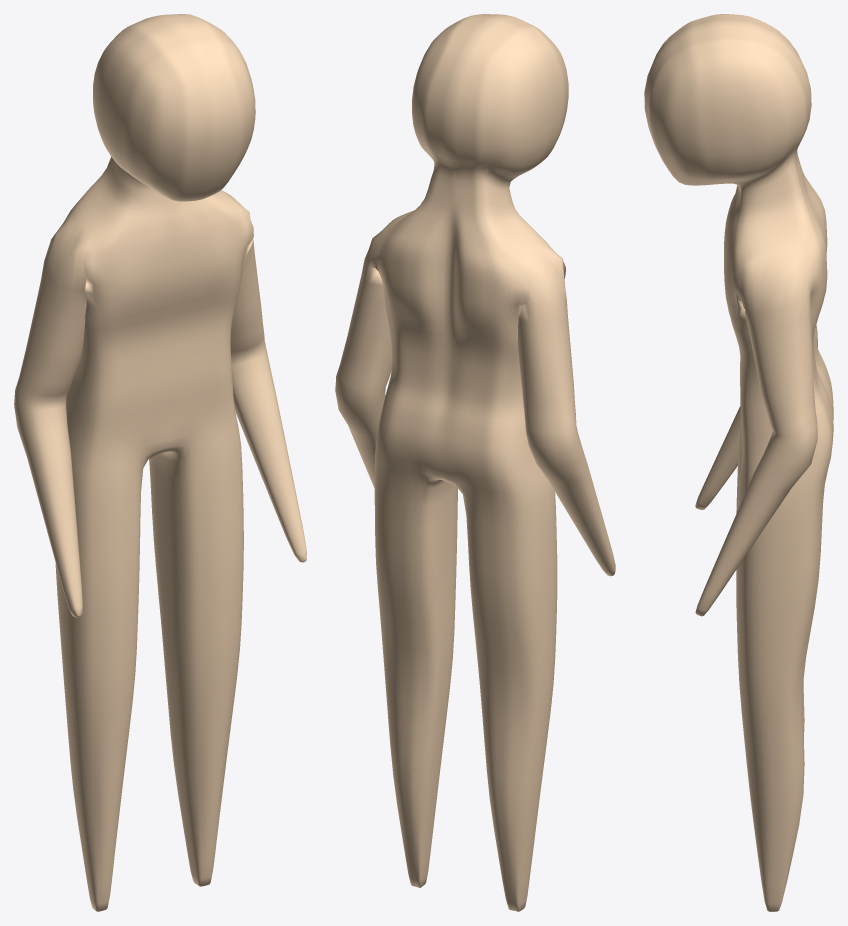
Rendered from NewPlayerCharacterMesh.fbx.
The picture shows the model from 3 angles, left to right: view 1: azimuth 30°, elevation 25°; view 2: azimuth 150°, elevation 25°; view 3: azimuth 270°, elevation 25°; orthographic projection. The views are drawn at different scales.
Parts seen in each view (by area): view 1: MainBody; view 2: MainBody; view 3: MainBody.
Part boxes in pixels (x1,y1,x2,y2): MainBody: (14, 14, 306, 911); MainBody: (335, 14, 615, 911); MainBody: (644, 14, 833, 911).
Bounding box in the file's own units: 491 × 1698 × 337.
